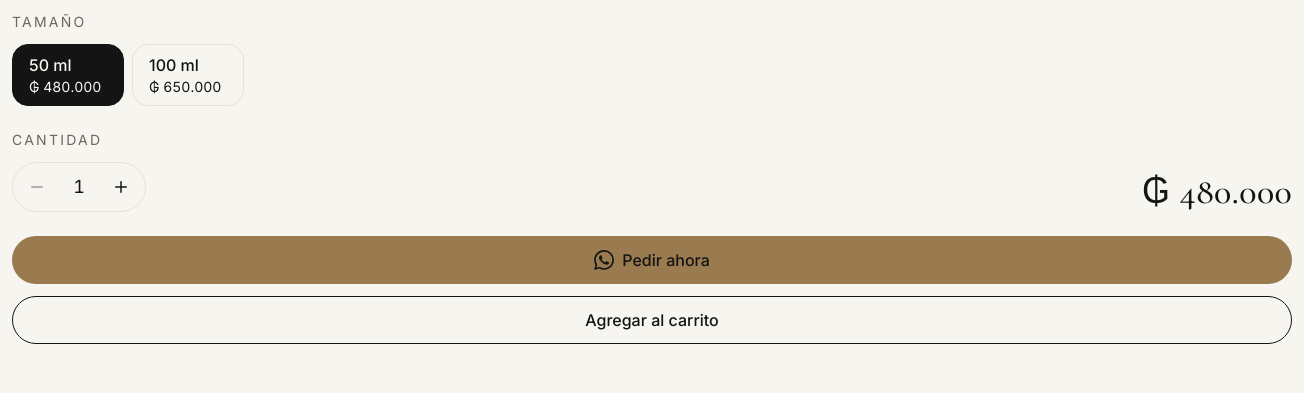
Test: ProductPurchase › al cambiar de variante recorta la cantidad al stock de la nueva
Click the button named "Aumentar cantidad" at (121, 187), box 99,165 -> 143,209
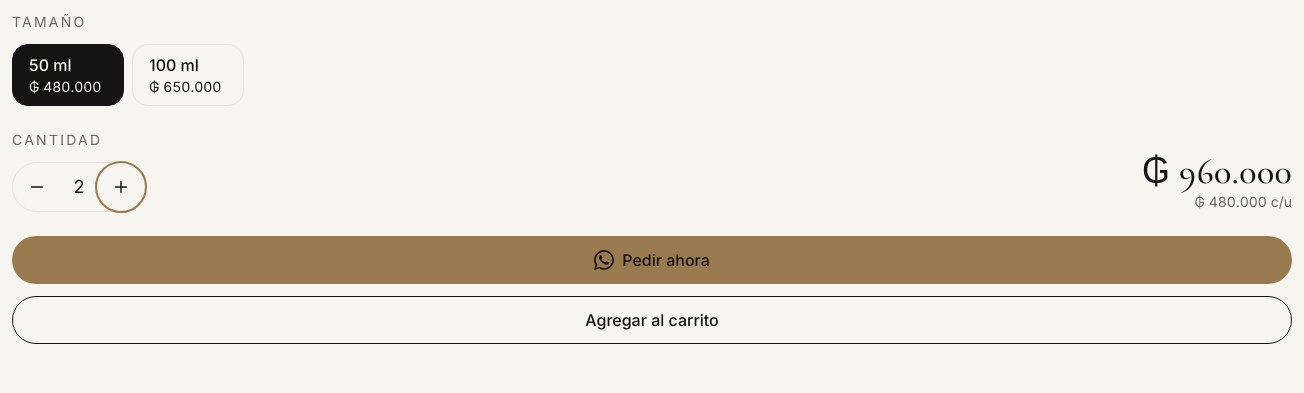
Click the button named "Aumentar cantidad" at (121, 187), box 99,165 -> 143,209
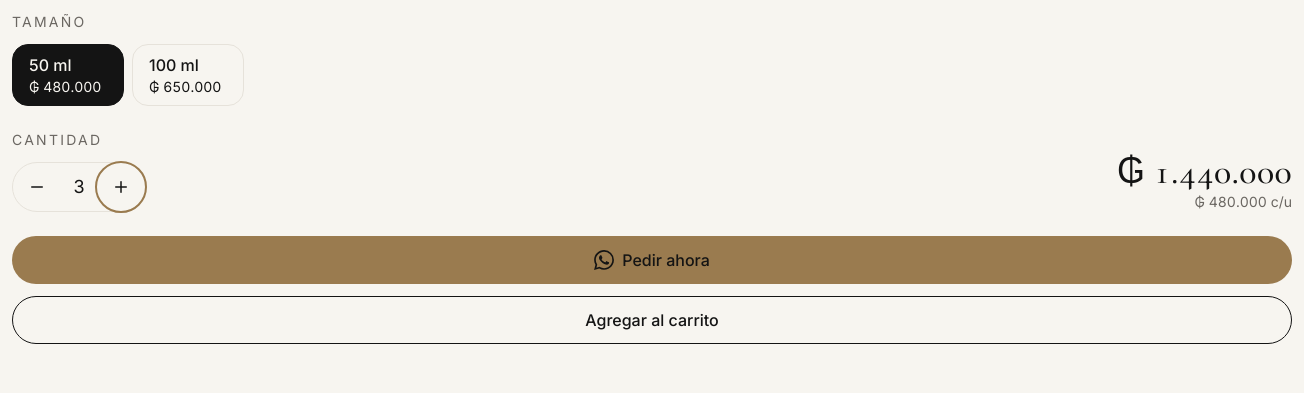
Click the button named "Aumentar cantidad" at (121, 187), box 99,165 -> 143,209
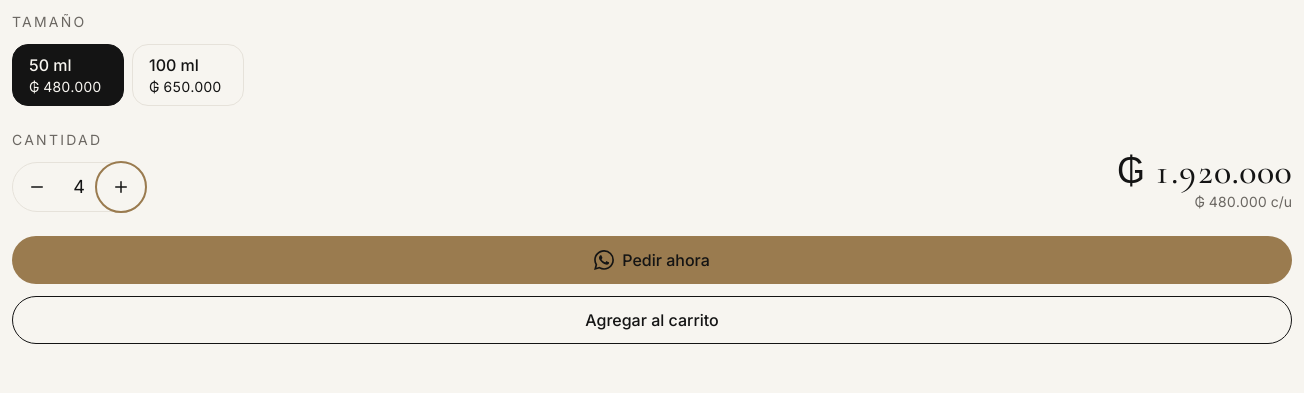
Click the button named "Aumentar cantidad" at (121, 187), box 99,165 -> 143,209
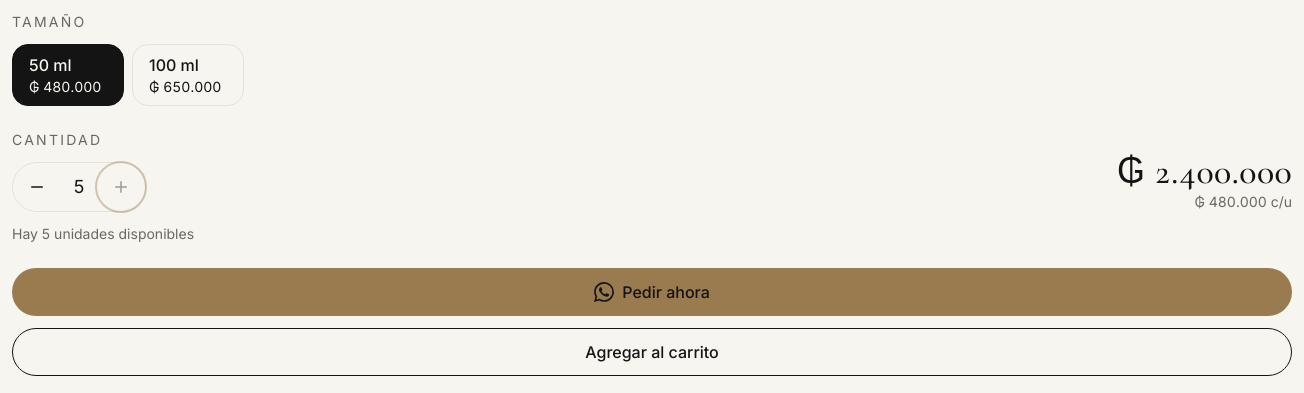
Expected: the text named "Cantidad" reads "5", 73,176 -> 85,197
Click the radio button labelled "100 ml ₲ 650.000" at (188, 75), box 132,44 -> 244,106
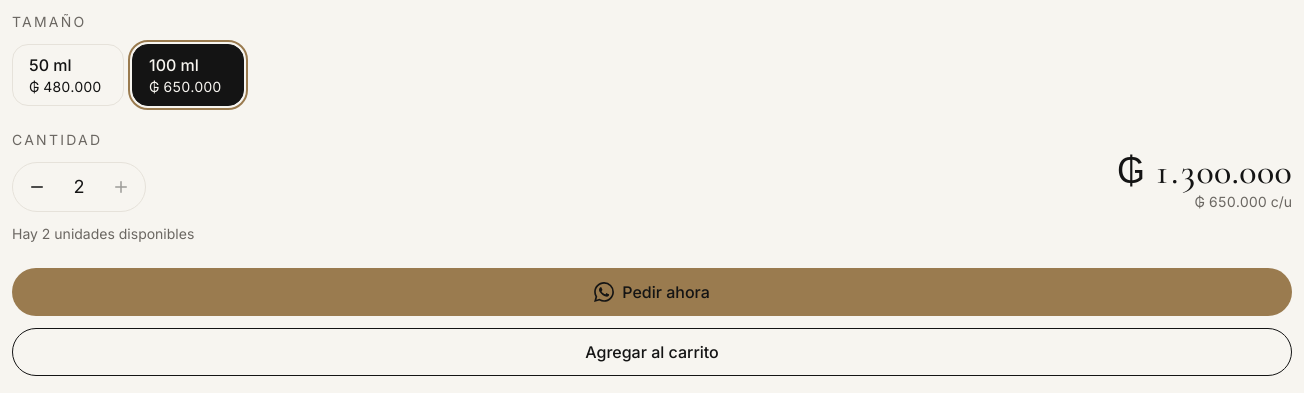
Expected: the text named "Cantidad" reads "2", 73,176 -> 85,197
